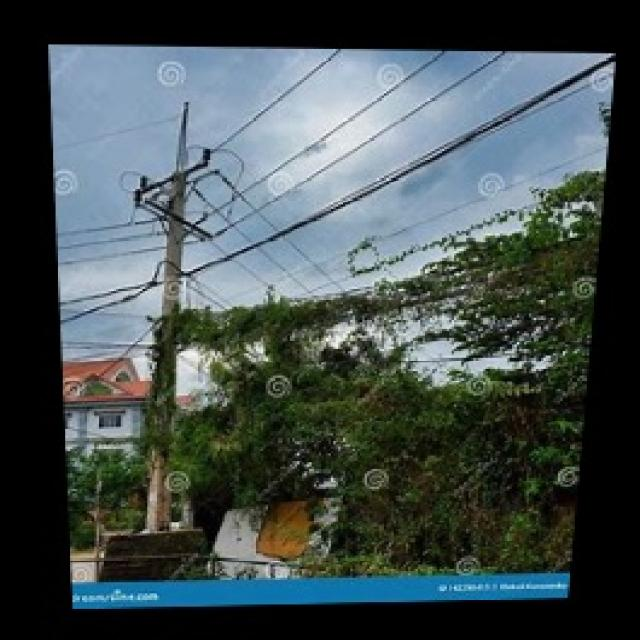critical vegetation: (182, 255, 586, 390)
